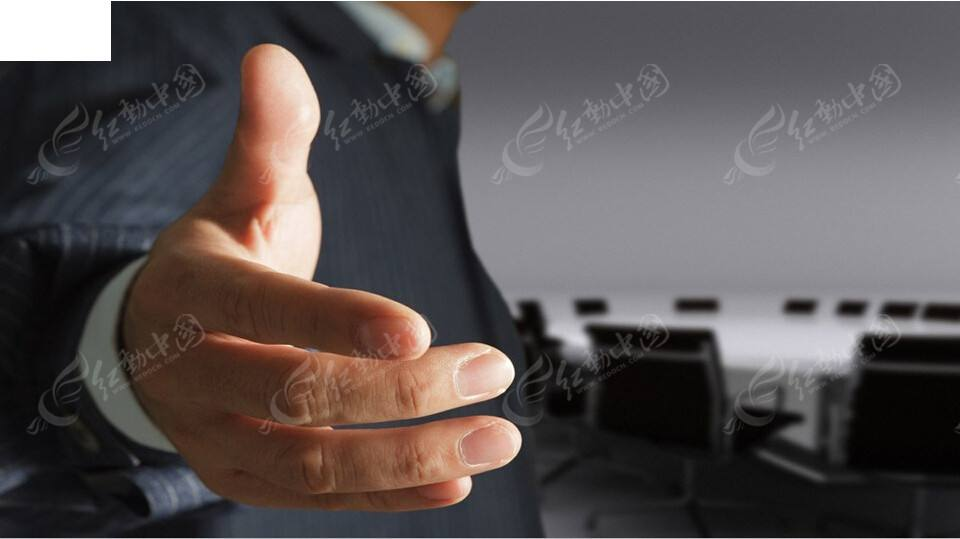no-phone: (135, 38, 527, 528)
